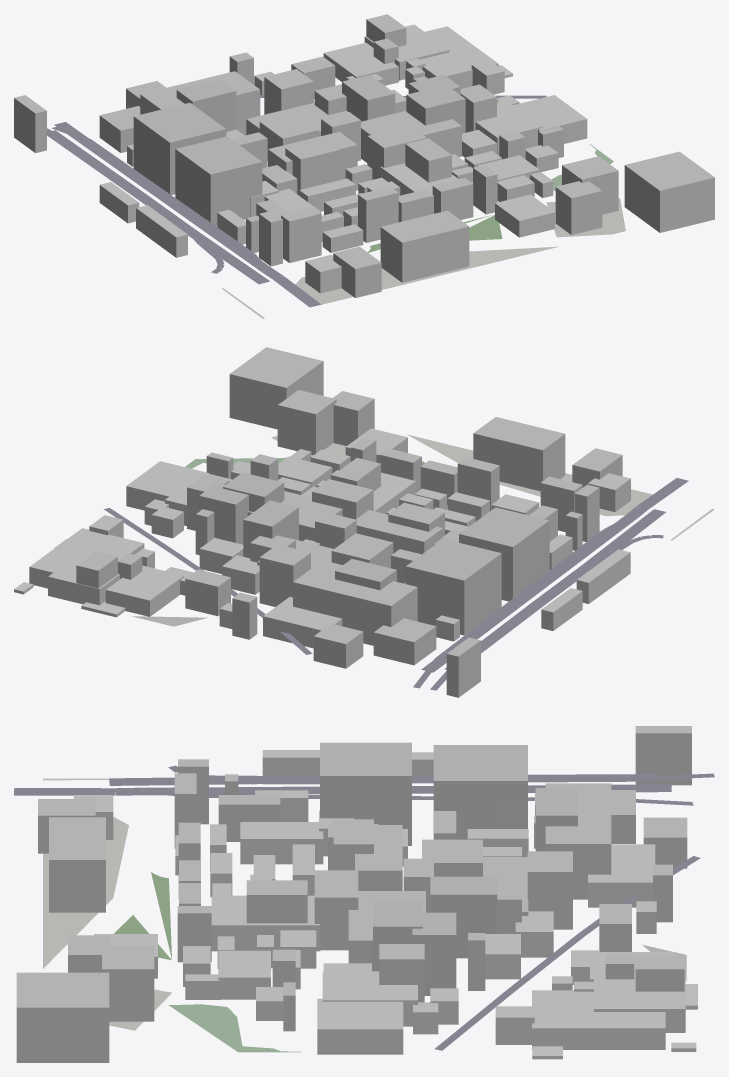
The model's file is 129_100_mid.glb.
The picture shows the model from 3 angles, top to bottom: view 1: azimuth 30°, elevation 25°; view 2: azimuth 150°, elevation 25°; view 3: azimuth 270°, elevation 25°; orthographic projection. The views are drawn at different scales.
Size of the model in its own units: 524 by 61.65 by 544.
